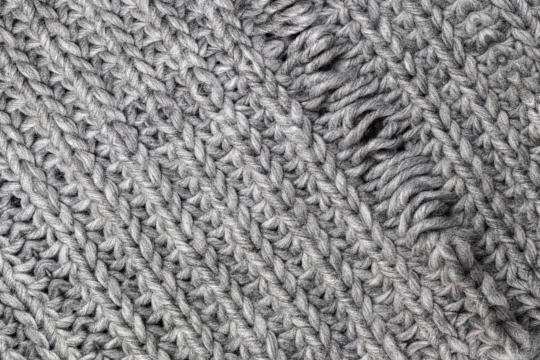slub: (233, 0, 479, 240)
